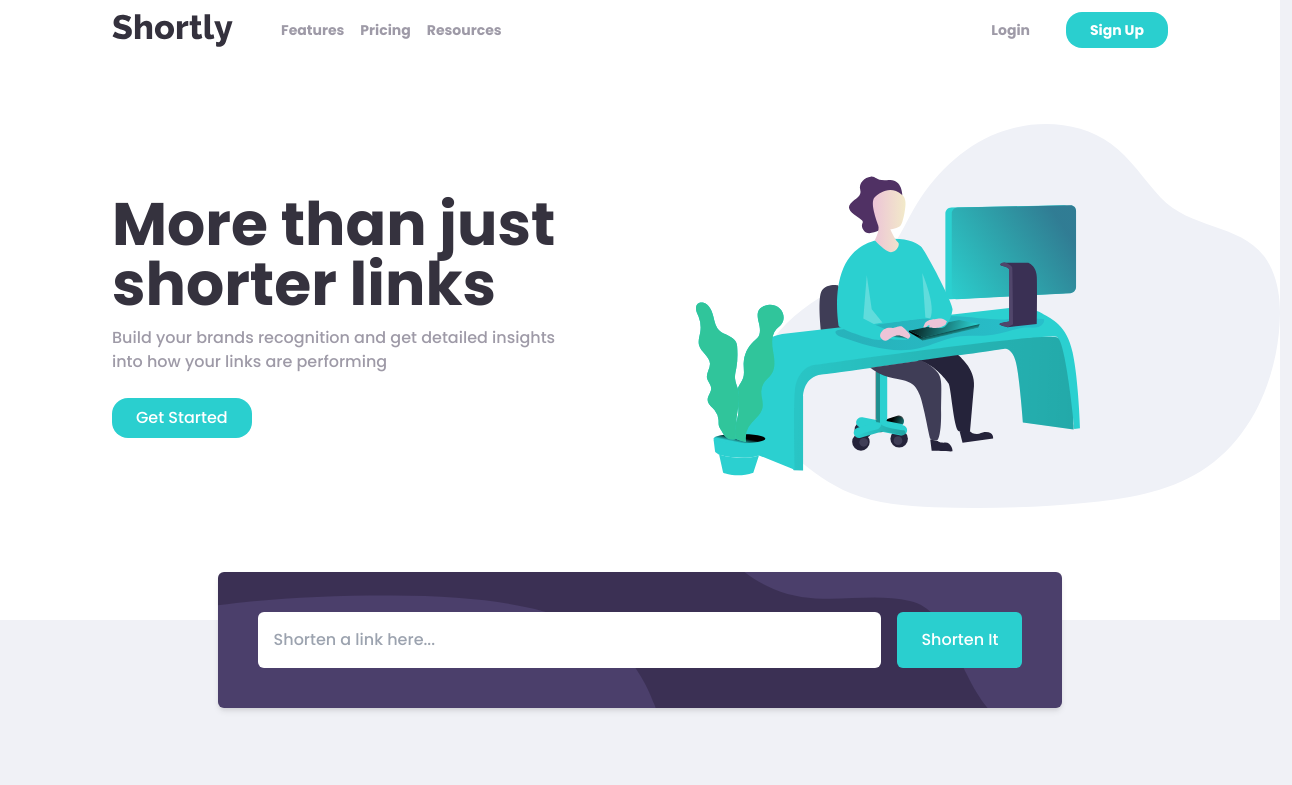
Test case: Action › Prevent user from submitting empty input
The width and height of the screenshot is (1292, 785).
Click the button with id "inputButton".
click(960, 640)  # box [897,612,1022,668]
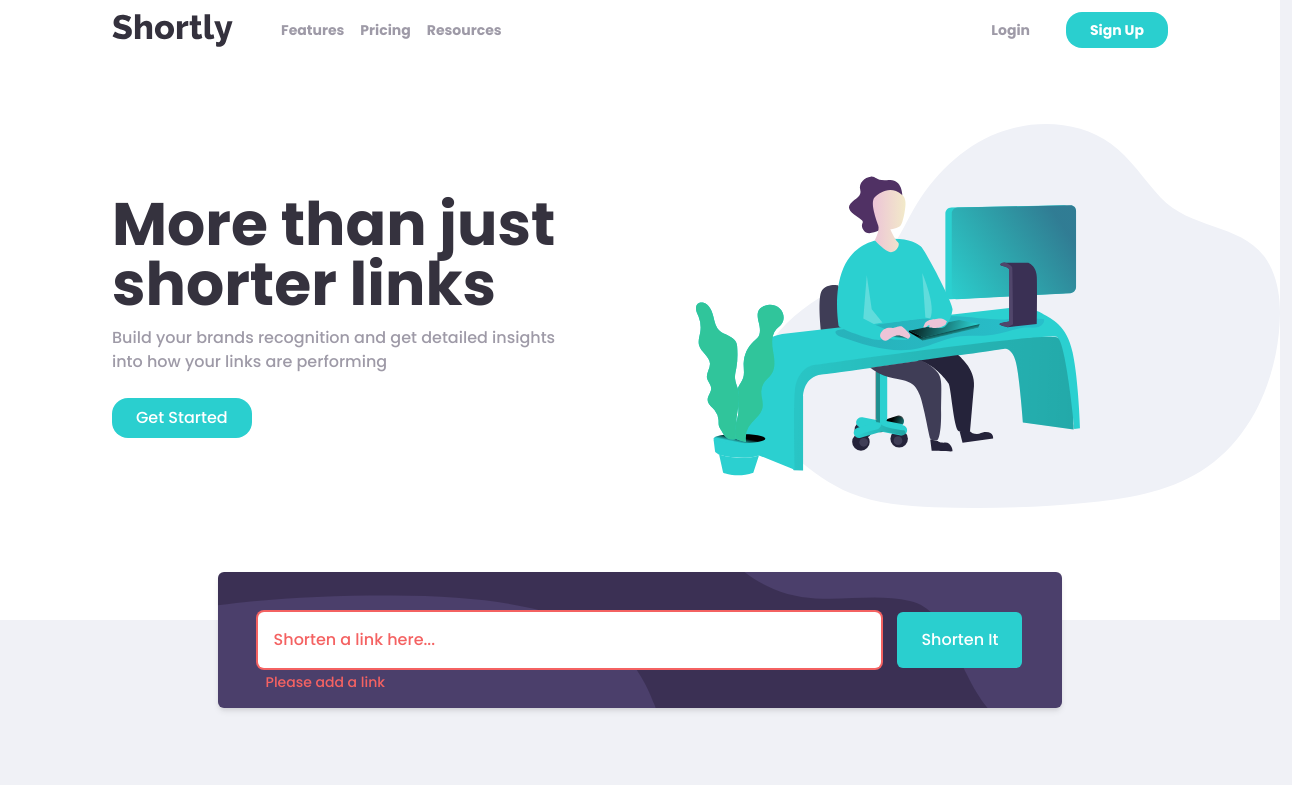
Now the text with id "inputErrorMessage" reads "Please add a link", box [266,672,385,692]
